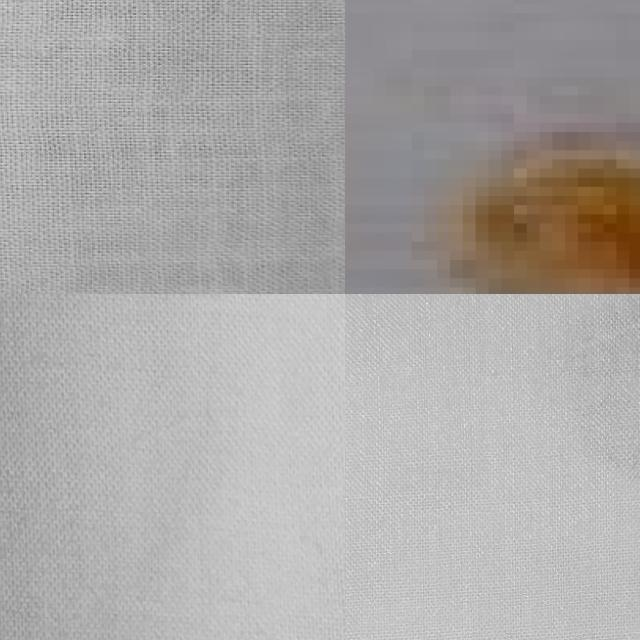Thread_other: (345, 31, 640, 294)
